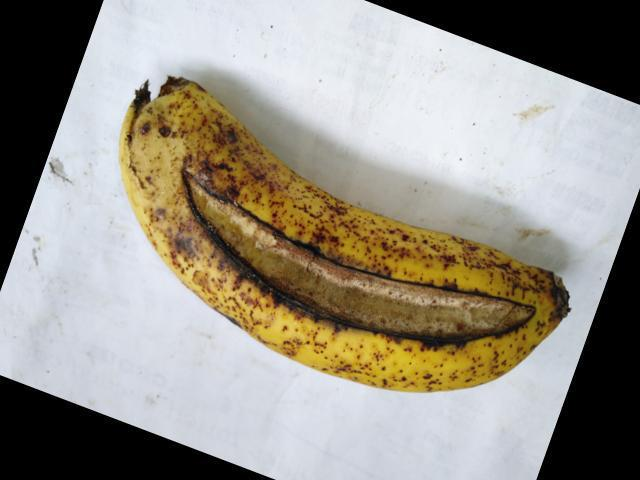rotten: (153, 155, 548, 377)
